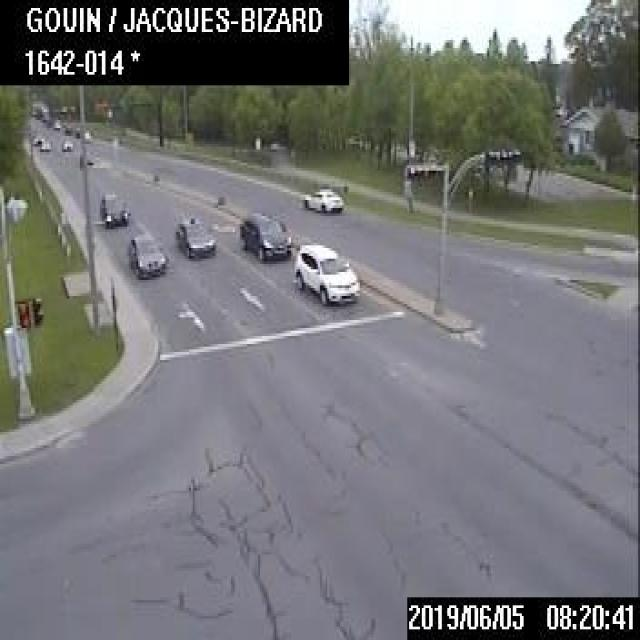vehicle: (292, 242, 359, 301), (238, 212, 290, 260), (128, 230, 164, 276), (175, 215, 214, 257), (99, 190, 129, 225), (302, 186, 342, 210), (60, 137, 71, 149), (39, 138, 50, 149), (32, 133, 42, 142), (52, 117, 59, 127), (63, 124, 71, 132), (84, 129, 89, 140), (74, 126, 79, 136)
